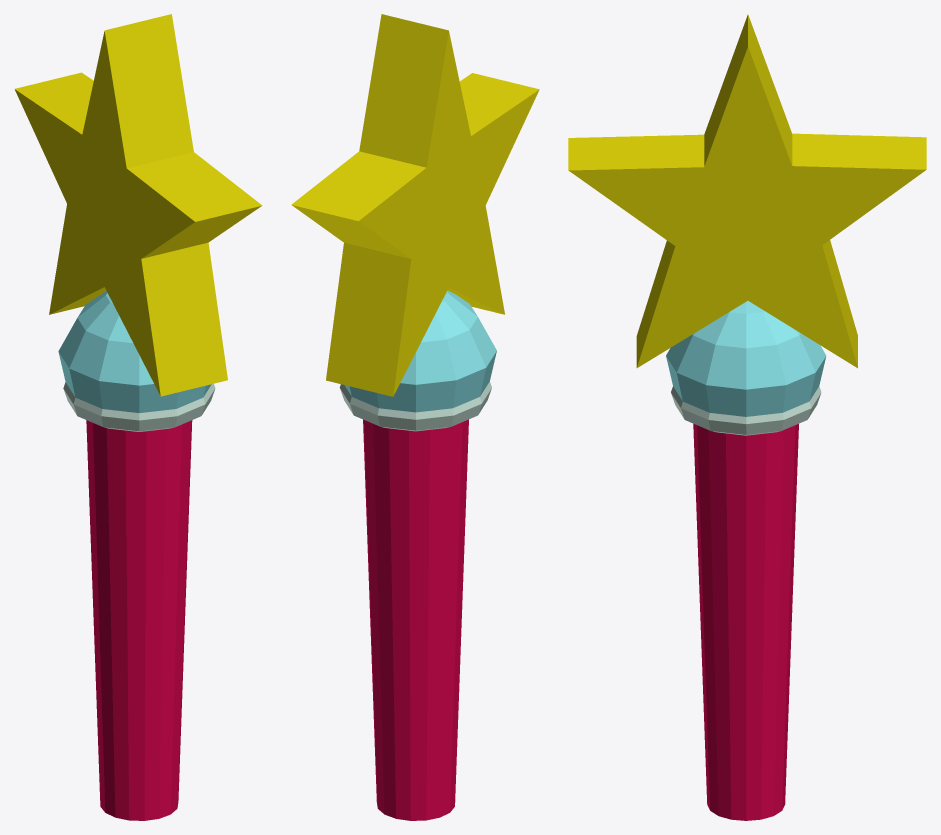
File: fairywand.fbx
3 views of the same model, side by side, from view 1: azimuth 30°, elevation 25°; view 2: azimuth 150°, elevation 25°; view 3: azimuth 270°, elevation 25° (orthographic).
Visible parts, largest first — view 1: star, handle, dome, ring; view 2: star, handle, dome, ring; view 3: star, handle, dome, ring.
Part boxes in pixels (x1,y1,x2,y2): star: (14,14,262,396); handle: (86,420,192,820); dome: (58,291,211,412); ring: (63,382,215,431); star: (291,14,539,396); handle: (363,419,468,820); dome: (344,290,496,412); ring: (339,381,491,431); star: (568,14,926,368); handle: (693,424,798,820); dome: (666,301,826,416); ring: (671,386,821,435).
Bounding box in the file's own units: 37.74 × 201 × 84.27.
